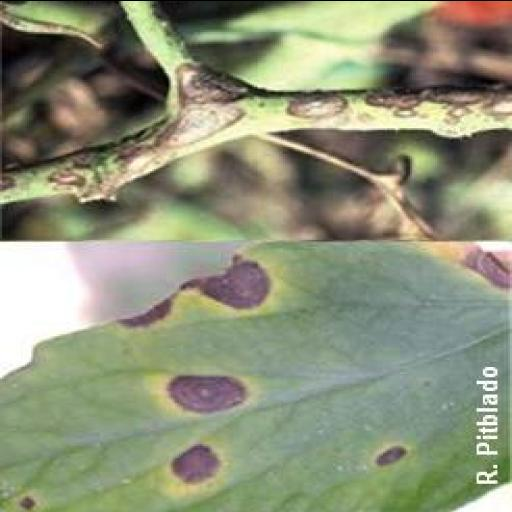disease_tomato: (0, 242, 512, 512)
